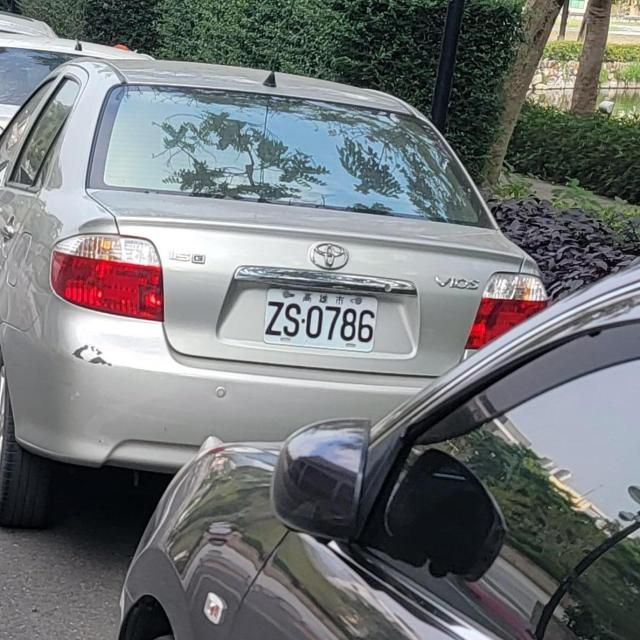W: (260, 284, 382, 356)
